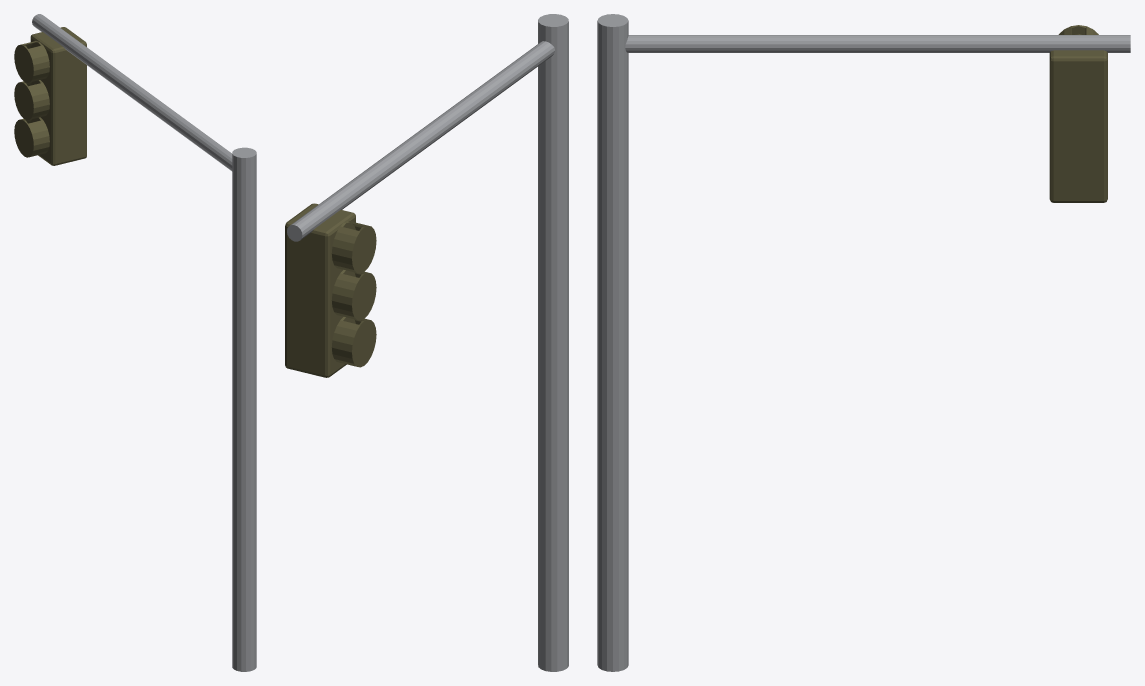
The model's file is traffic_signal.glb.
3 renders of one model, left to right at view 1: azimuth 30°, elevation 25°; view 2: azimuth 150°, elevation 25°; view 3: azimuth 270°, elevation 25°, orthographic. The views are drawn at different scales.
Visible parts, largest first — view 1: Signal_Pole, Signal_Head, Signal_Arm, Signal_Visor0, Signal_Visor1, Signal_Visor2; view 2: Signal_Pole, Signal_Head, Signal_Arm, Signal_Visor0, Signal_Visor1, Signal_Visor2; view 3: Signal_Pole, Signal_Head, Signal_Arm.
Part boxes in pixels (x1,y1,x2,y2): Signal_Pole: (232,147,256,671); Signal_Head: (30,27,86,165); Signal_Arm: (32,14,232,171); Signal_Visor0: (14,41,49,82); Signal_Visor1: (14,80,49,120); Signal_Visor2: (14,117,49,157); Signal_Pole: (538,14,568,671); Signal_Head: (285,203,355,377); Signal_Arm: (287,41,554,241); Signal_Visor0: (331,221,376,273); Signal_Visor1: (331,270,376,320); Signal_Visor2: (331,317,376,367); Signal_Pole: (597,14,628,671); Signal_Head: (1049,50,1107,202); Signal_Arm: (625,35,1130,52).
Bounding box in the file's own units: 0.59 × 5.5 × 4.12.
